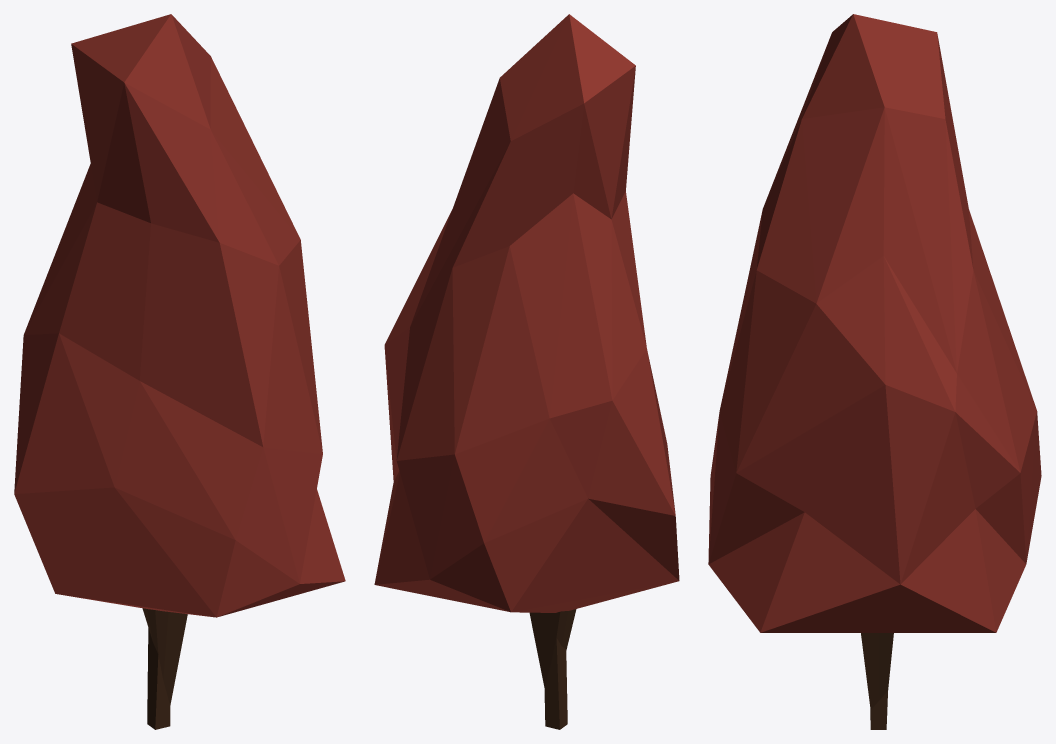
File: Tree_20_Red.fbx
The picture shows the model from 3 angles, left to right: view 1: azimuth 30°, elevation 25°; view 2: azimuth 150°, elevation 25°; view 3: azimuth 270°, elevation 25°; orthographic projection. The views are drawn at different scales.
Parts seen in each view (by area): view 1: Tree_20_Red_Part_1, Tree_20_Red_Part_2; view 2: Tree_20_Red_Part_1, Tree_20_Red_Part_2; view 3: Tree_20_Red_Part_1, Tree_20_Red_Part_2.
Part boxes in pixels (x1,y1,x2,y2): Tree_20_Red_Part_1: [14, 14, 345, 617]; Tree_20_Red_Part_2: [142, 608, 187, 729]; Tree_20_Red_Part_1: [374, 14, 679, 612]; Tree_20_Red_Part_2: [529, 609, 576, 729]; Tree_20_Red_Part_1: [708, 14, 1041, 632]; Tree_20_Red_Part_2: [861, 633, 893, 729].
Bounding box in the file's own units: 332 × 789 × 334.
